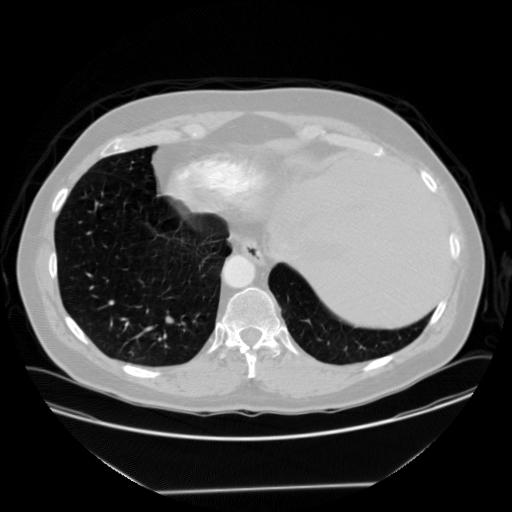nodule: (164, 313, 177, 326)
